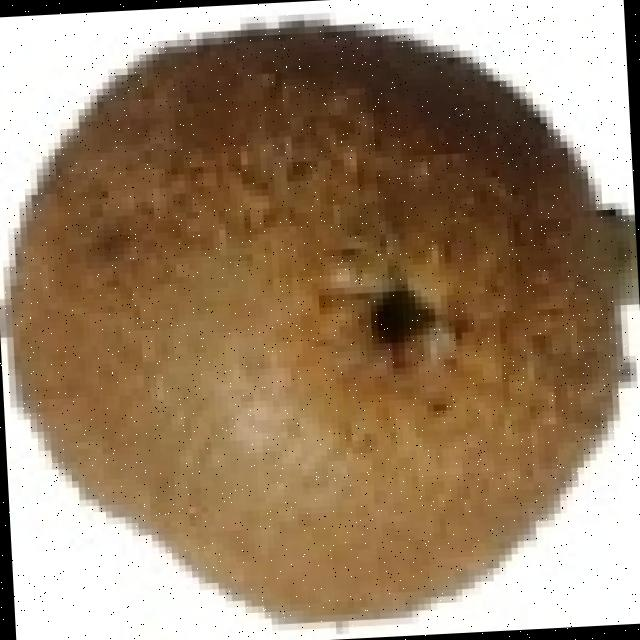kiwi: (11, 31, 634, 622)
